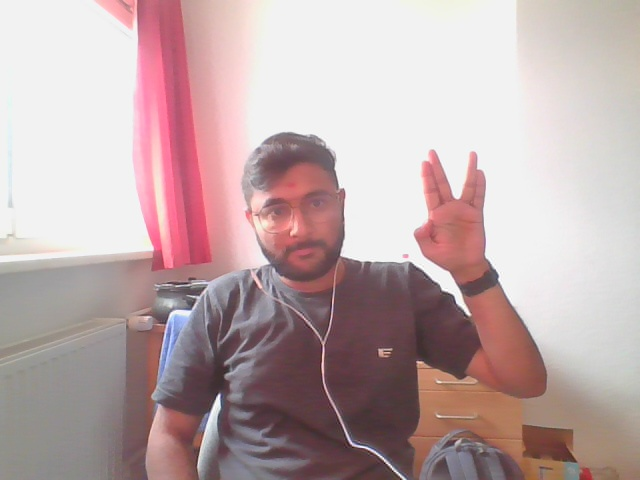LiveLong: (416, 150, 487, 268)
